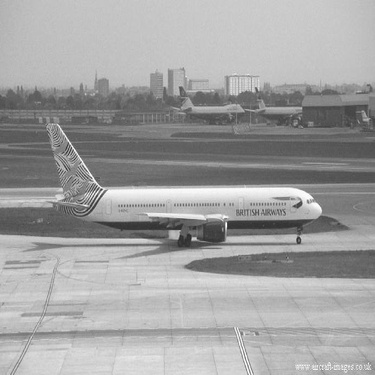airplane: (32, 110, 336, 247), (157, 79, 248, 124), (243, 83, 306, 127)
